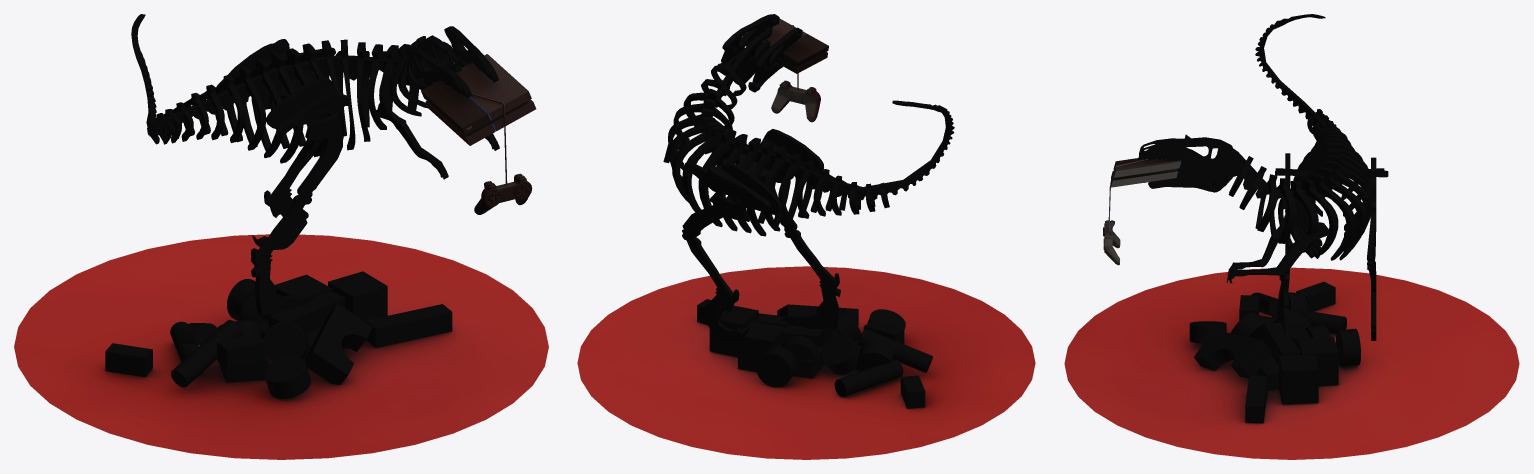
The model's file is T-RexTotaal_3.fbx.
The picture shows the model from 3 angles, left to right: view 1: azimuth 30°, elevation 25°; view 2: azimuth 150°, elevation 25°; view 3: azimuth 270°, elevation 25°; orthographic projection. The views are drawn at different scales.
Parts seen in each view (by area): view 1: Disc_1, T_Rex, Blokjes_1, PS4, Control_2; view 2: Disc_1, T_Rex, Blokjes_1, PS4, Control_2; view 3: Disc_1, T_Rex, Blokjes_1, PS4, Control_2.
Part boxes in pixels (<box>): Disc_1: <box>14,234,548,459</box>; T_Rex: <box>131,14,499,315</box>; Blokjes_1: <box>105,271,452,398</box>; PS4: <box>421,54,536,145</box>; Control_2: <box>445,86,532,214</box>; Disc_1: <box>577,266,1035,459</box>; T_Rex: <box>663,14,954,340</box>; Blokjes_1: <box>697,299,932,408</box>; PS4: <box>740,18,828,73</box>; Control_2: <box>771,25,820,122</box>; Disc_1: <box>1064,267,1519,459</box>; T_Rex: <box>1138,14,1388,342</box>; Blokjes_1: <box>1189,281,1360,423</box>; PS4: <box>1111,158,1181,187</box>; Control_2: <box>1103,159,1148,265</box>.
Bounding box in the file's own units: 537 × 390 × 537.
5 materials, 3 textured.
